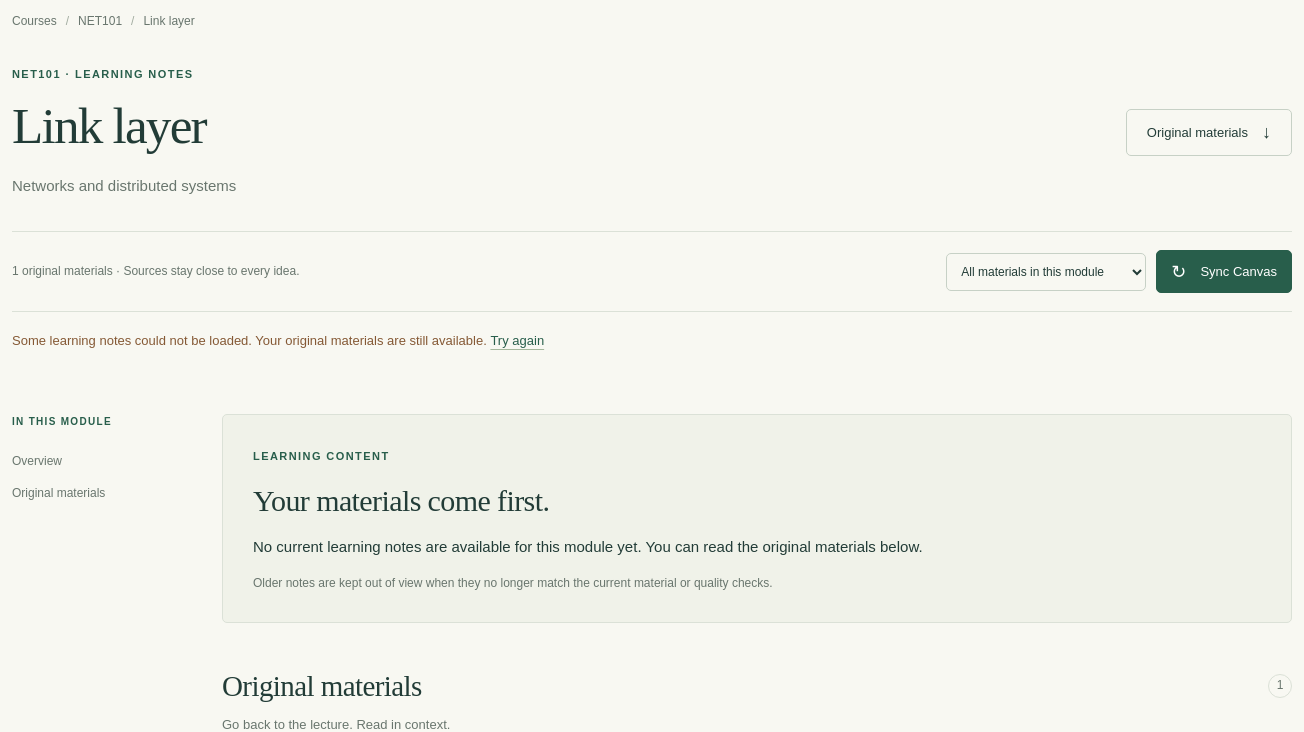
Test case: learning content › keeps materials accessible on knowledge read failure and retries
Expected: the message shows "Some learning notes could not be loaded", [12, 334, 490, 348]
Click the button "Try again": (517, 341) [490, 330, 544, 352]
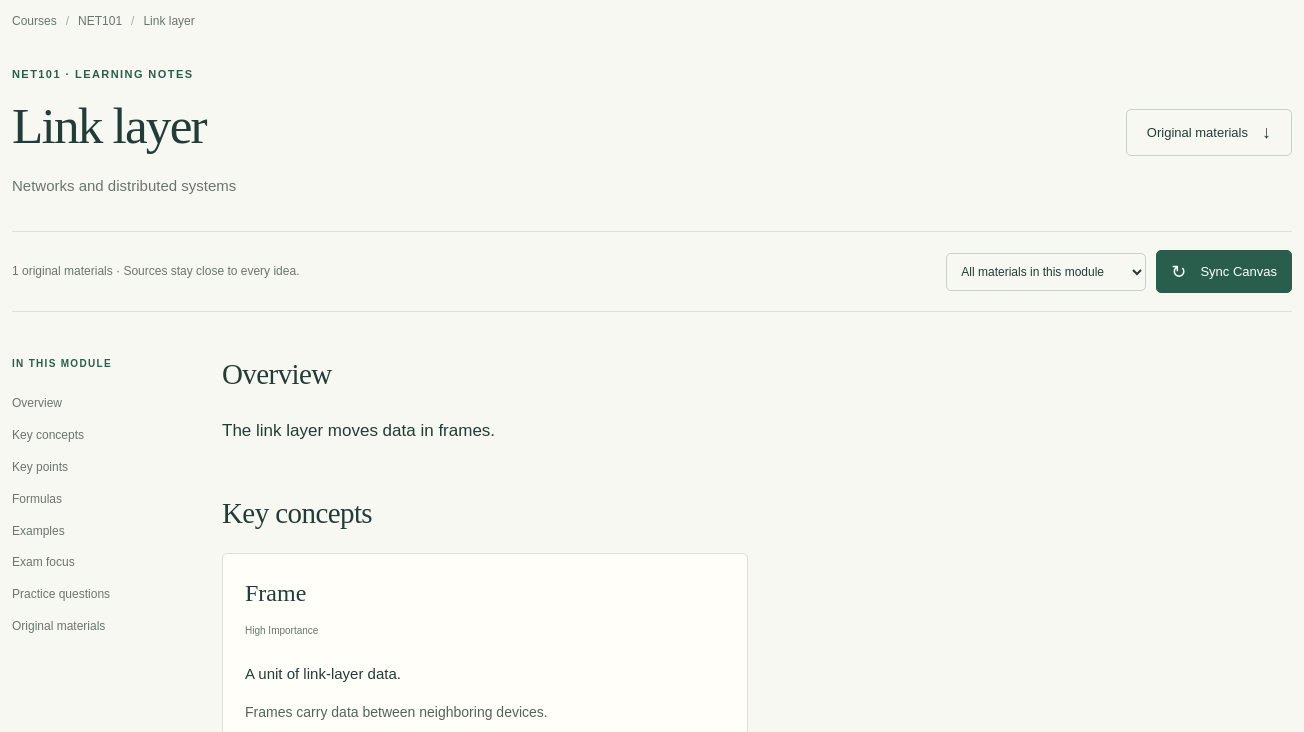
Now the heading "Frame" is shown, box [245, 580, 306, 606]
